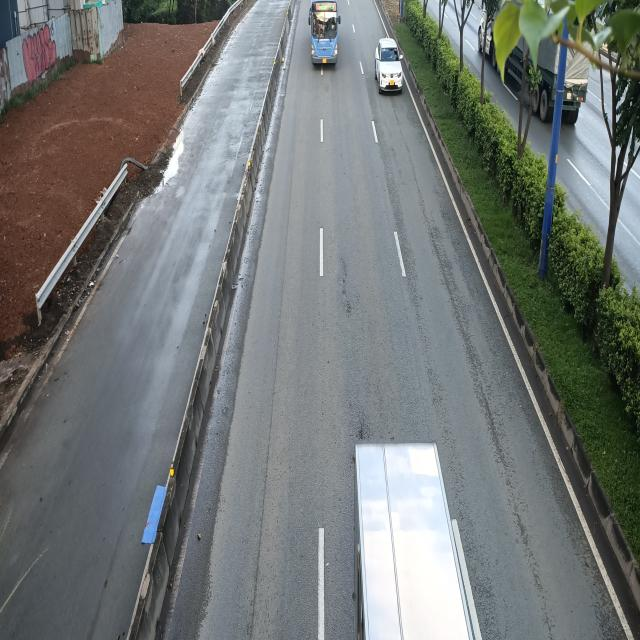car: (375, 38, 404, 94)
coach: (308, 1, 341, 68)
